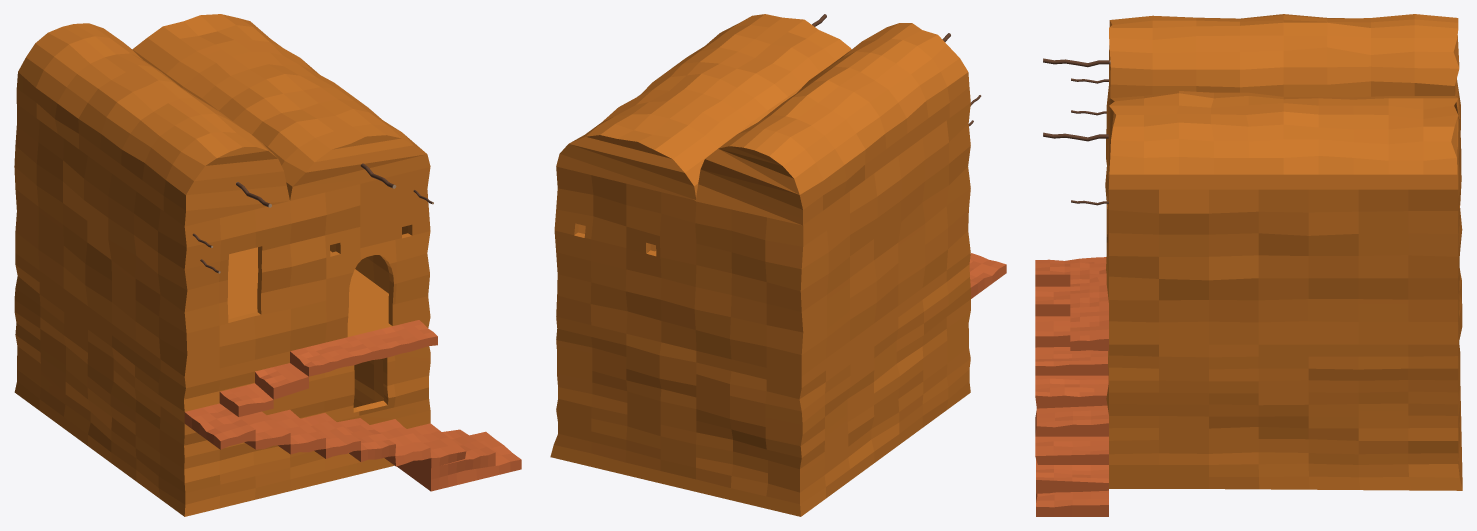
File: Tunisia_house3.fbx
3 renders of one model, left to right at view 1: azimuth 30°, elevation 25°; view 2: azimuth 150°, elevation 25°; view 3: azimuth 270°, elevation 25°, orthographic. The views are drawn at different scales.
Parts seen in each view (by area): view 1: t4_2nd Floor, T4_1st Floor, T4_roof2, T4_roof1, T4_stair; view 2: t4_2nd Floor, T4_1st Floor, T4_roof2, T4_roof1, T4_stair; view 3: t4_2nd Floor, T4_1st Floor, T4_roof1, T4_roof2, T4_stair.
Part boxes in pixels (<box>): t4_2nd Floor: <box>14,104,430,376</box>; T4_1st Floor: <box>14,247,430,516</box>; T4_roof2: <box>16,23,289,226</box>; T4_roof1: <box>132,14,430,200</box>; T4_stair: <box>184,320,521,491</box>; t4_2nd Floor: <box>554,103,970,376</box>; T4_1st Floor: <box>550,251,970,516</box>; T4_roof2: <box>695,23,970,225</box>; T4_roof1: <box>556,14,851,200</box>; T4_stair: <box>969,253,1006,298</box>; t4_2nd Floor: <box>1105,80,1462,344</box>; T4_1st Floor: <box>1106,268,1462,490</box>; T4_roof1: <box>1108,91,1458,189</box>; T4_roof2: <box>1109,14,1460,118</box>; T4_stair: <box>1035,257,1108,516</box>.
Bounding box in the file's own units: 1289 × 1464 × 1517.
Materials: 3 (1 with a texture image).
